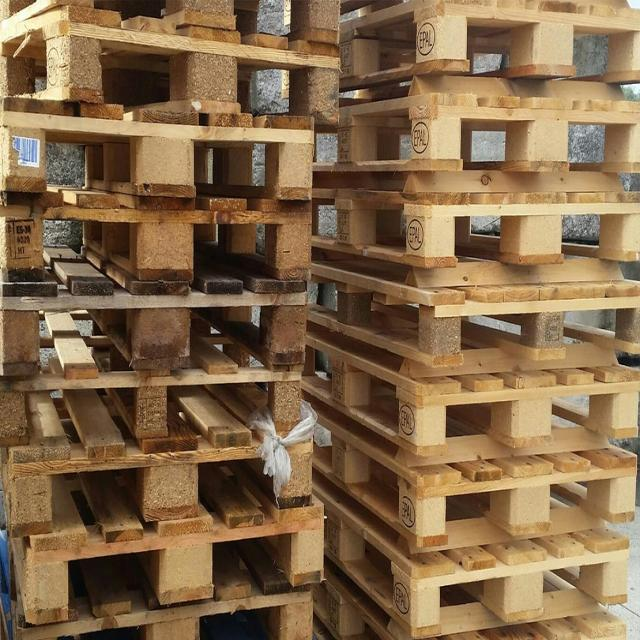green waste: (2, 5, 634, 638)
